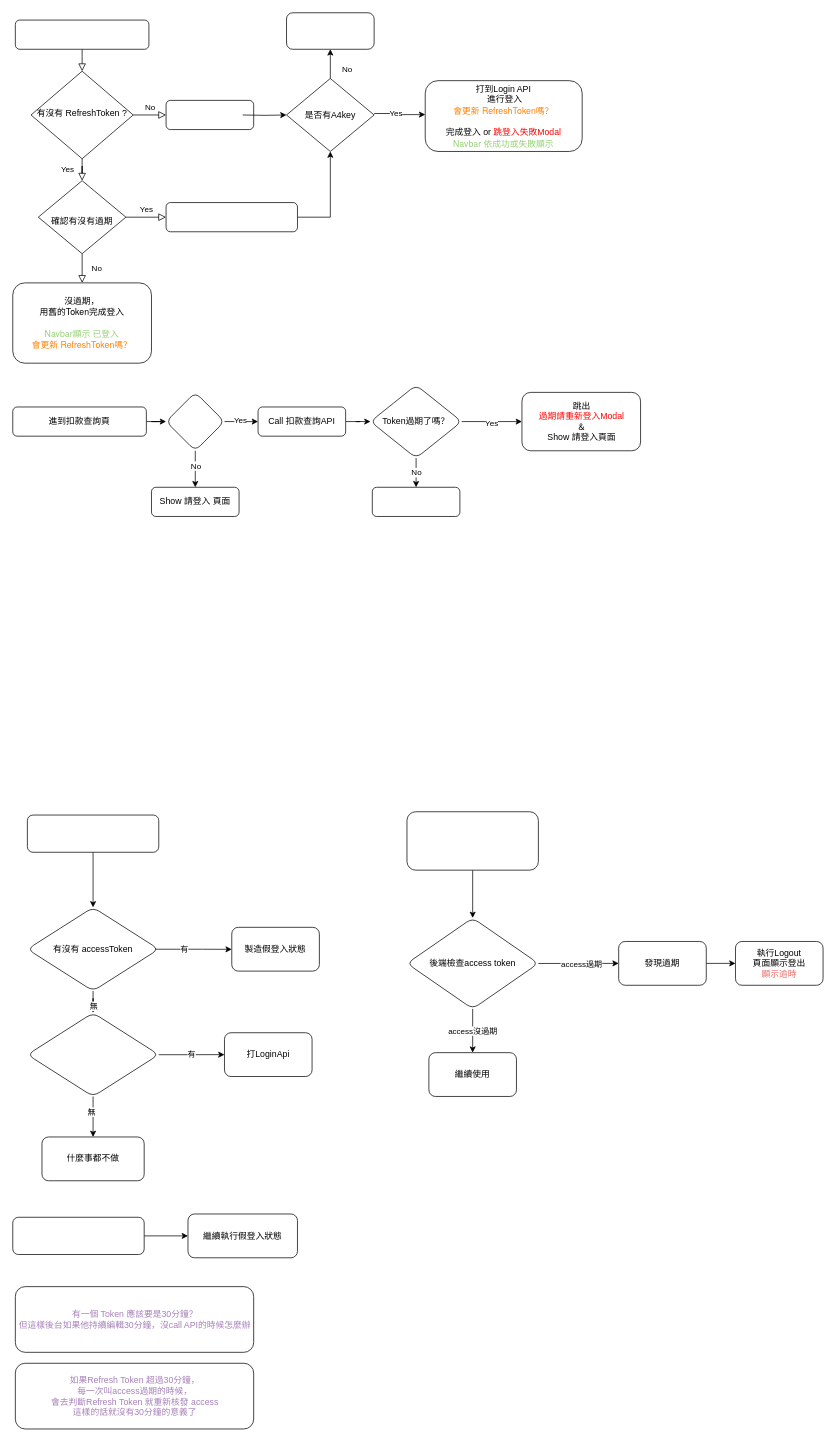
This 836x1442 diagram has some shape labels left out. Here are the shapes that lost their labels. From the top down, the centre of each, then its label:
[82,34]: 一進到網站時
[330,30]: 不登入 Navbar顯示 未登入
[209,115]: 沒Token 以前沒有登入過
[231,217]: RefreshToken 過期了， 清掉Cookie
[194,421]: 是否登入？
[416,501]: 成功拿到資料顯示
[93,833]: 一進到網頁時
[472,840]: 在已登入狀態 進到扣款查詢頁 Call 扣款查詢API
[93,1054]: 有沒有A4Key
[78,1236]: 在其他頁面時
